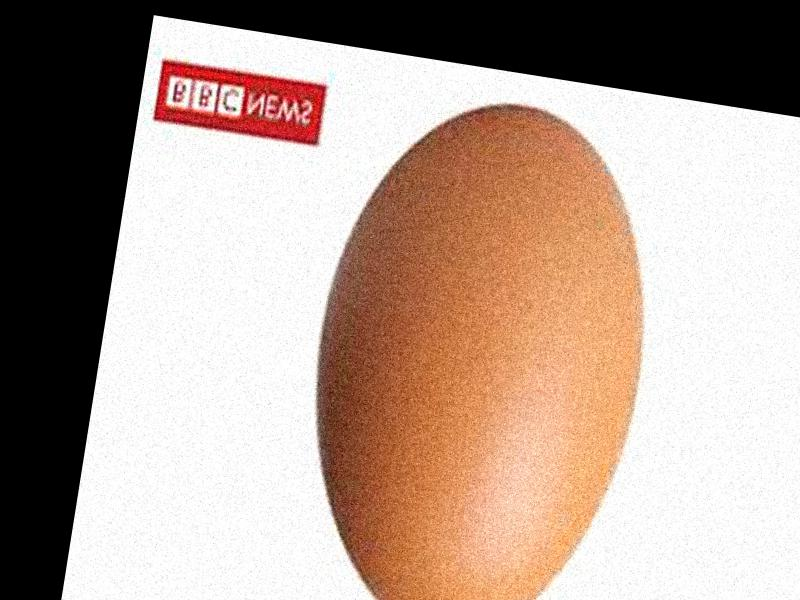Eggs: (278, 83, 678, 600)
